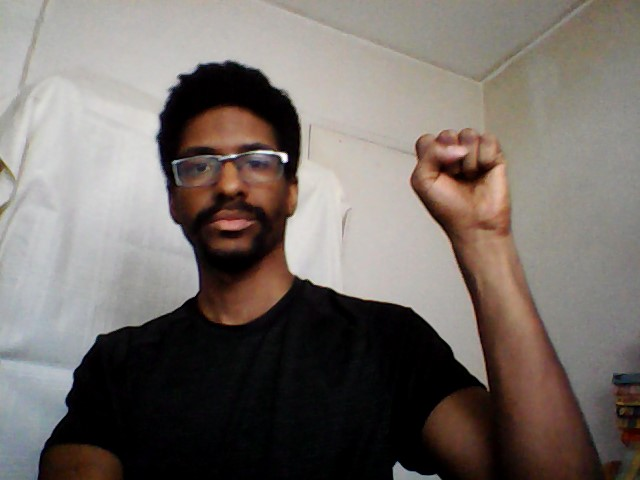s: (407, 124, 521, 239)
